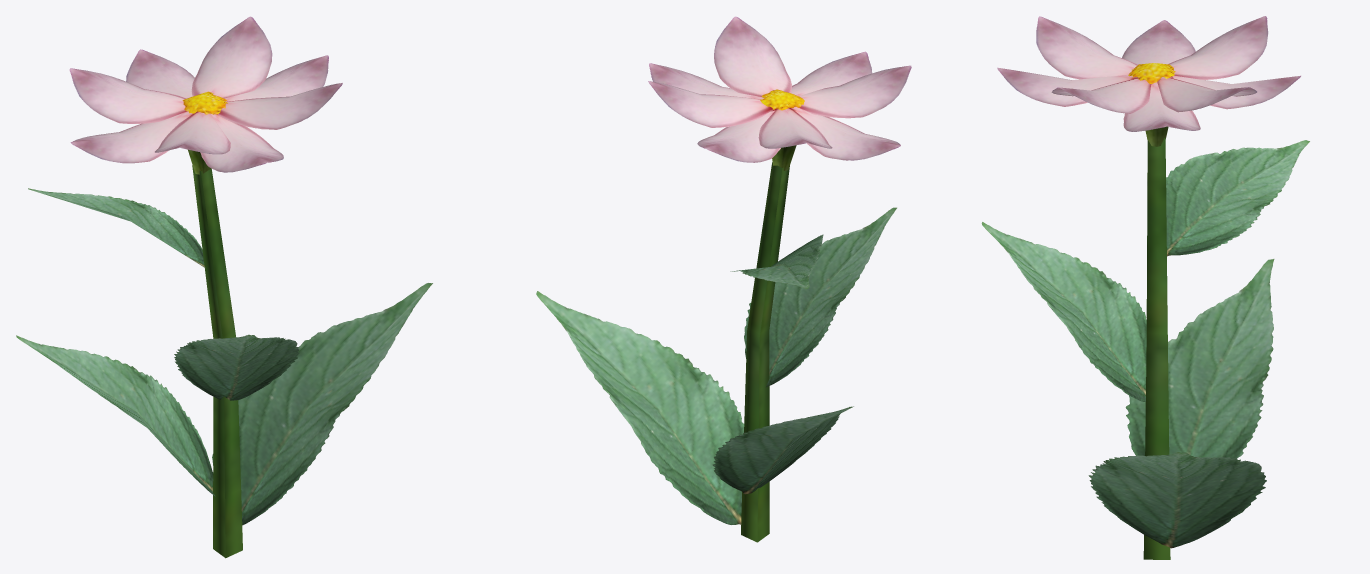
The model's file is whitef1.fbx.
3 renders of one model, left to right at view 1: azimuth 30°, elevation 25°; view 2: azimuth 150°, elevation 25°; view 3: azimuth 270°, elevation 25°, orthographic. The views are drawn at different scales.
Parts seen in each view (by area): view 1: whiteflw01; view 2: whiteflw01; view 3: whiteflw01.
Boxes of the visible parts, bbox=[...] form: whiteflw01: bbox=[16, 16, 432, 558]; whiteflw01: bbox=[536, 16, 911, 542]; whiteflw01: bbox=[981, 16, 1309, 559].
Size of the model in its own units: 25.14 by 29.17 by 20.69.
